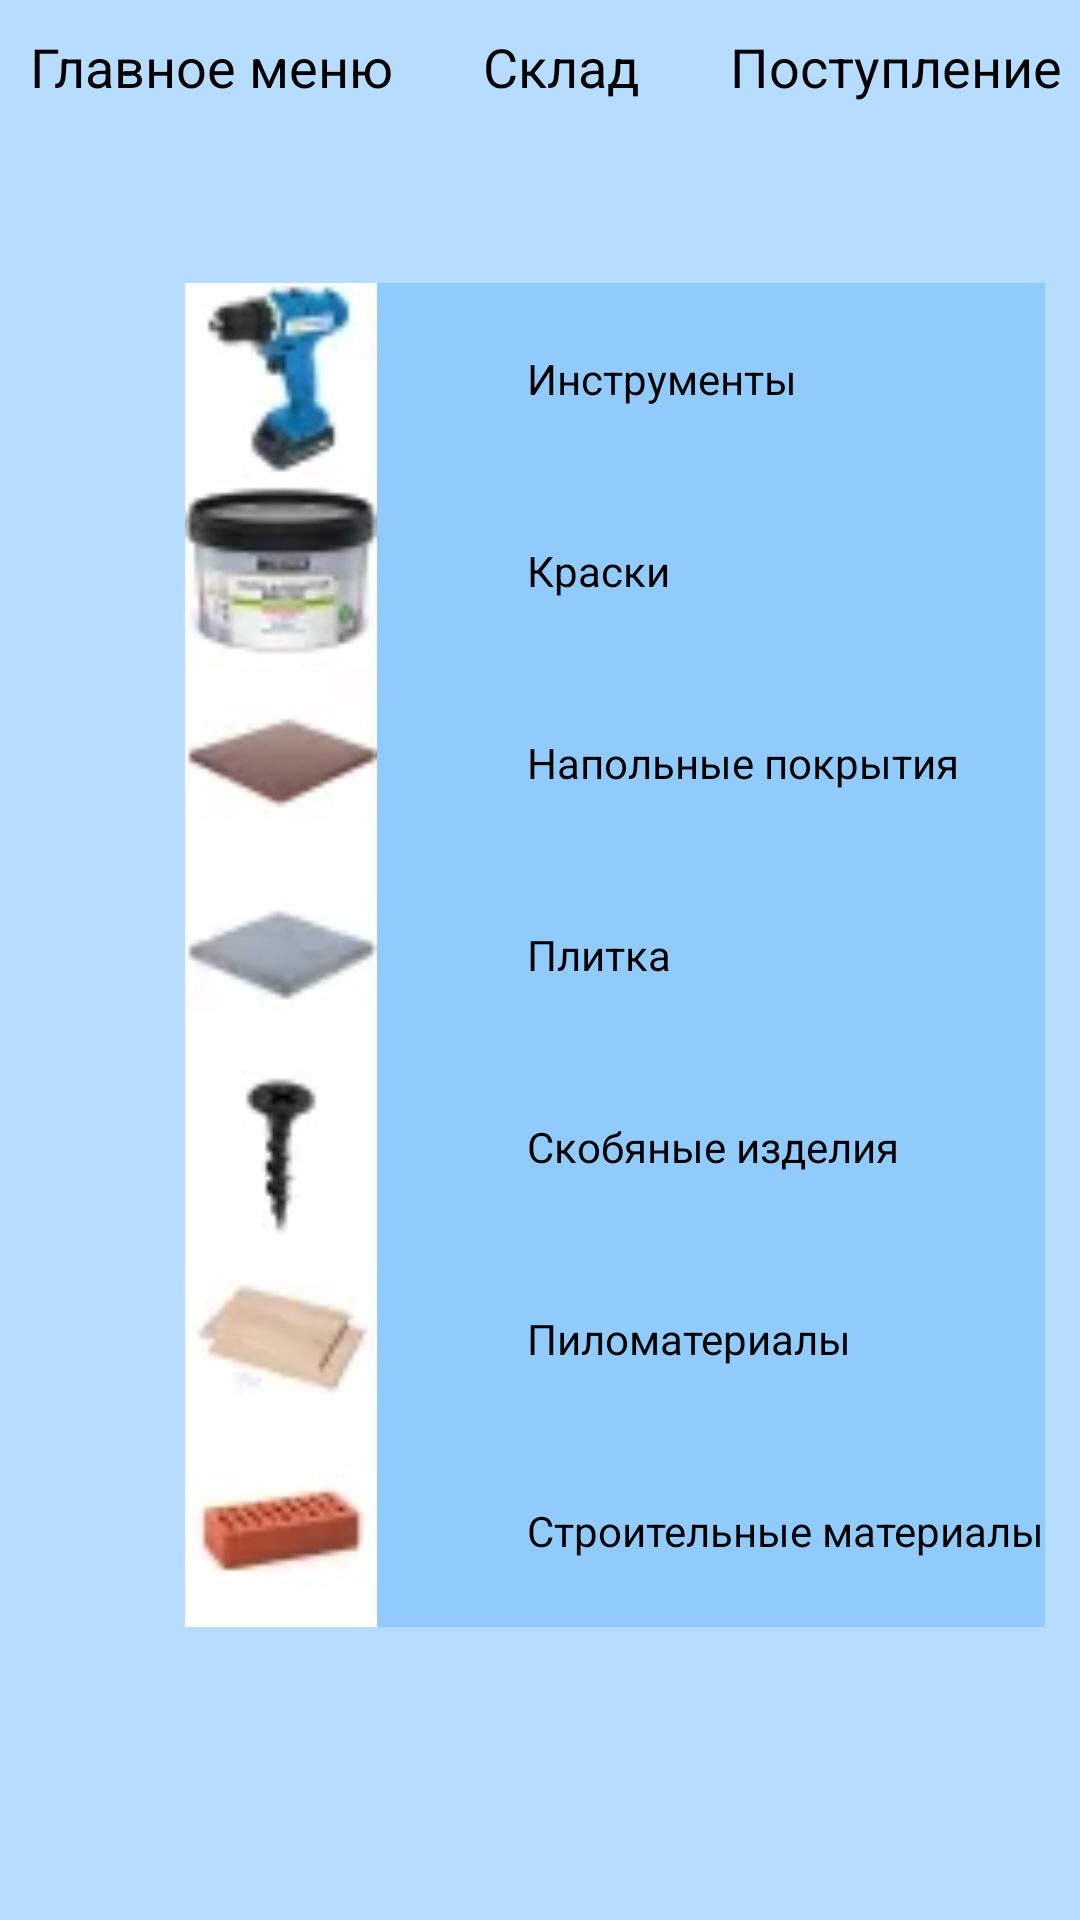

Named icons in this screenshot (1080*1920) and their centers, (x,y):
instrumenty: (281,379)
kraski: (281,570)
napolnye pokrytiya: (282,763)
plitka: (282,955)
skobyanye izdeliya: (281,1155)
stolyarnye izdeliya: (283,1338)
stroymaterialy: (281,1531)
